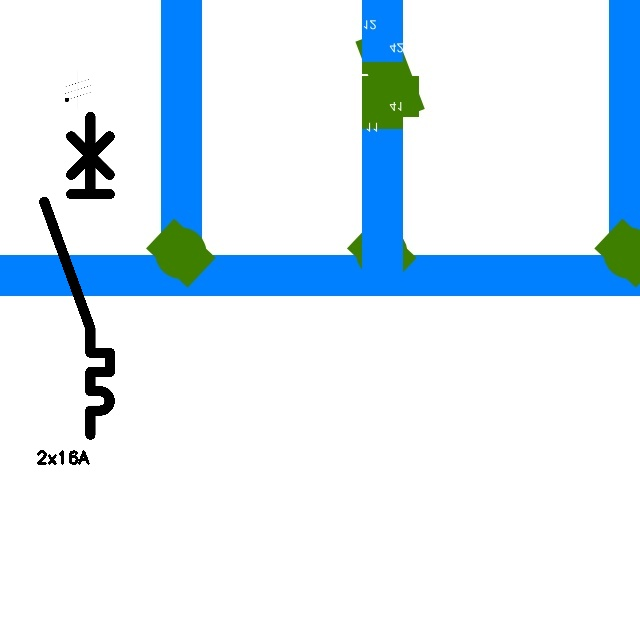interruptor_termomagnetico: (36, 108, 118, 442)
